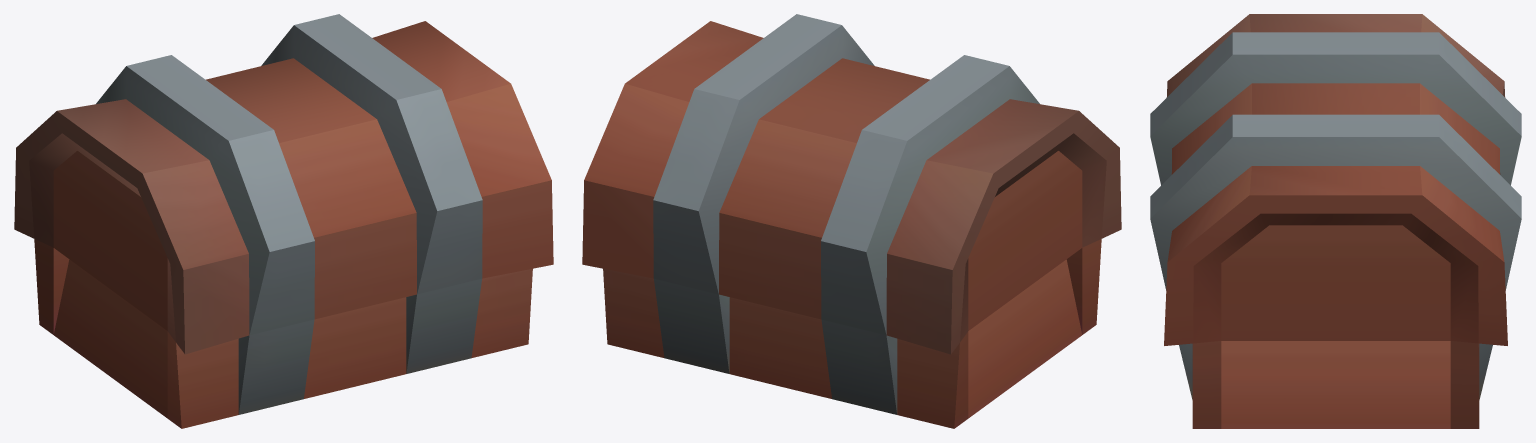
File: trunk_large_A.glb
3 renders of one model, left to right at view 1: azimuth 30°, elevation 25°; view 2: azimuth 150°, elevation 25°; view 3: azimuth 270°, elevation 25°, orthographic.
Visible parts, largest first — view 1: trunk_large_A; view 2: trunk_large_A; view 3: trunk_large_A.
Part boxes in pixels (x1,y1,x2,y2): trunk_large_A: [14, 14, 553, 428]; trunk_large_A: [582, 14, 1121, 428]; trunk_large_A: [1150, 14, 1521, 428].
Bounding box in the file's own units: 1.5 × 1 × 1.3.
Materials: 1 (1 with a texture image).
